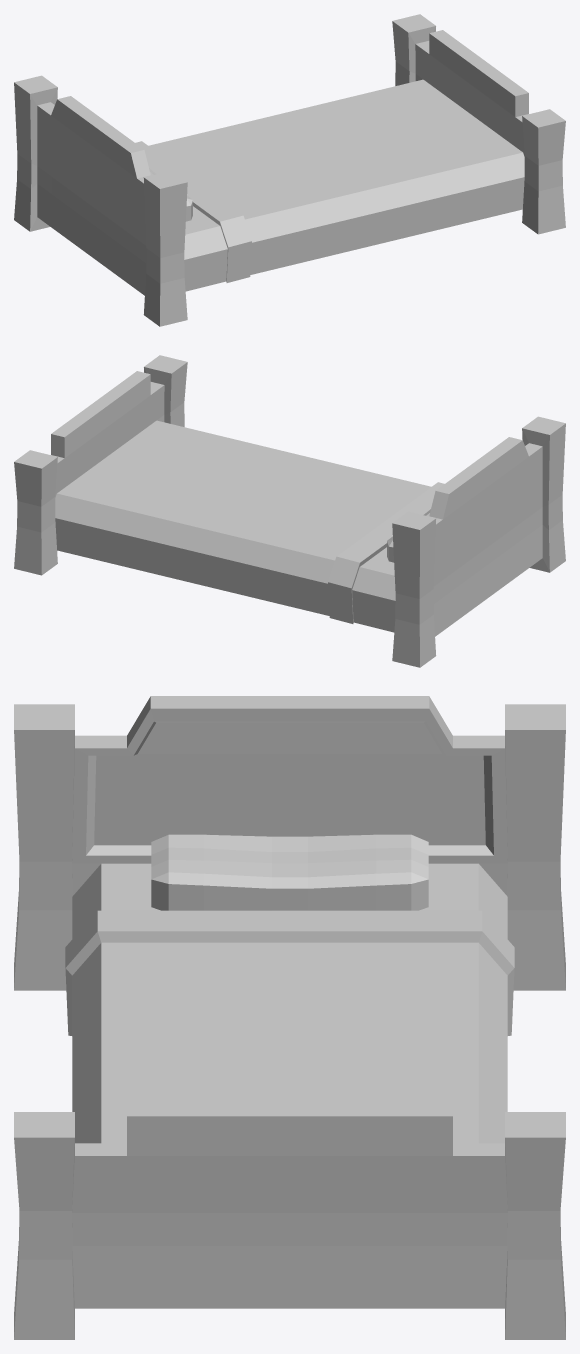
Rendered from Bed.glb.
3 renders of one model, top to bottom at view 1: azimuth 30°, elevation 25°; view 2: azimuth 150°, elevation 25°; view 3: azimuth 270°, elevation 25°, orthographic. The views are drawn at different scales.
Parts seen in each view (by area): view 1: Bed; view 2: Bed; view 3: Bed.
Part boxes in pixels (bbox=[...]): Bed: bbox=[14, 14, 565, 326]; Bed: bbox=[14, 355, 565, 667]; Bed: bbox=[14, 696, 565, 1339].
Bounding box in the file's own units: 1.43 × 0.4898 × 0.8898.
4 materials, 4 textured.
